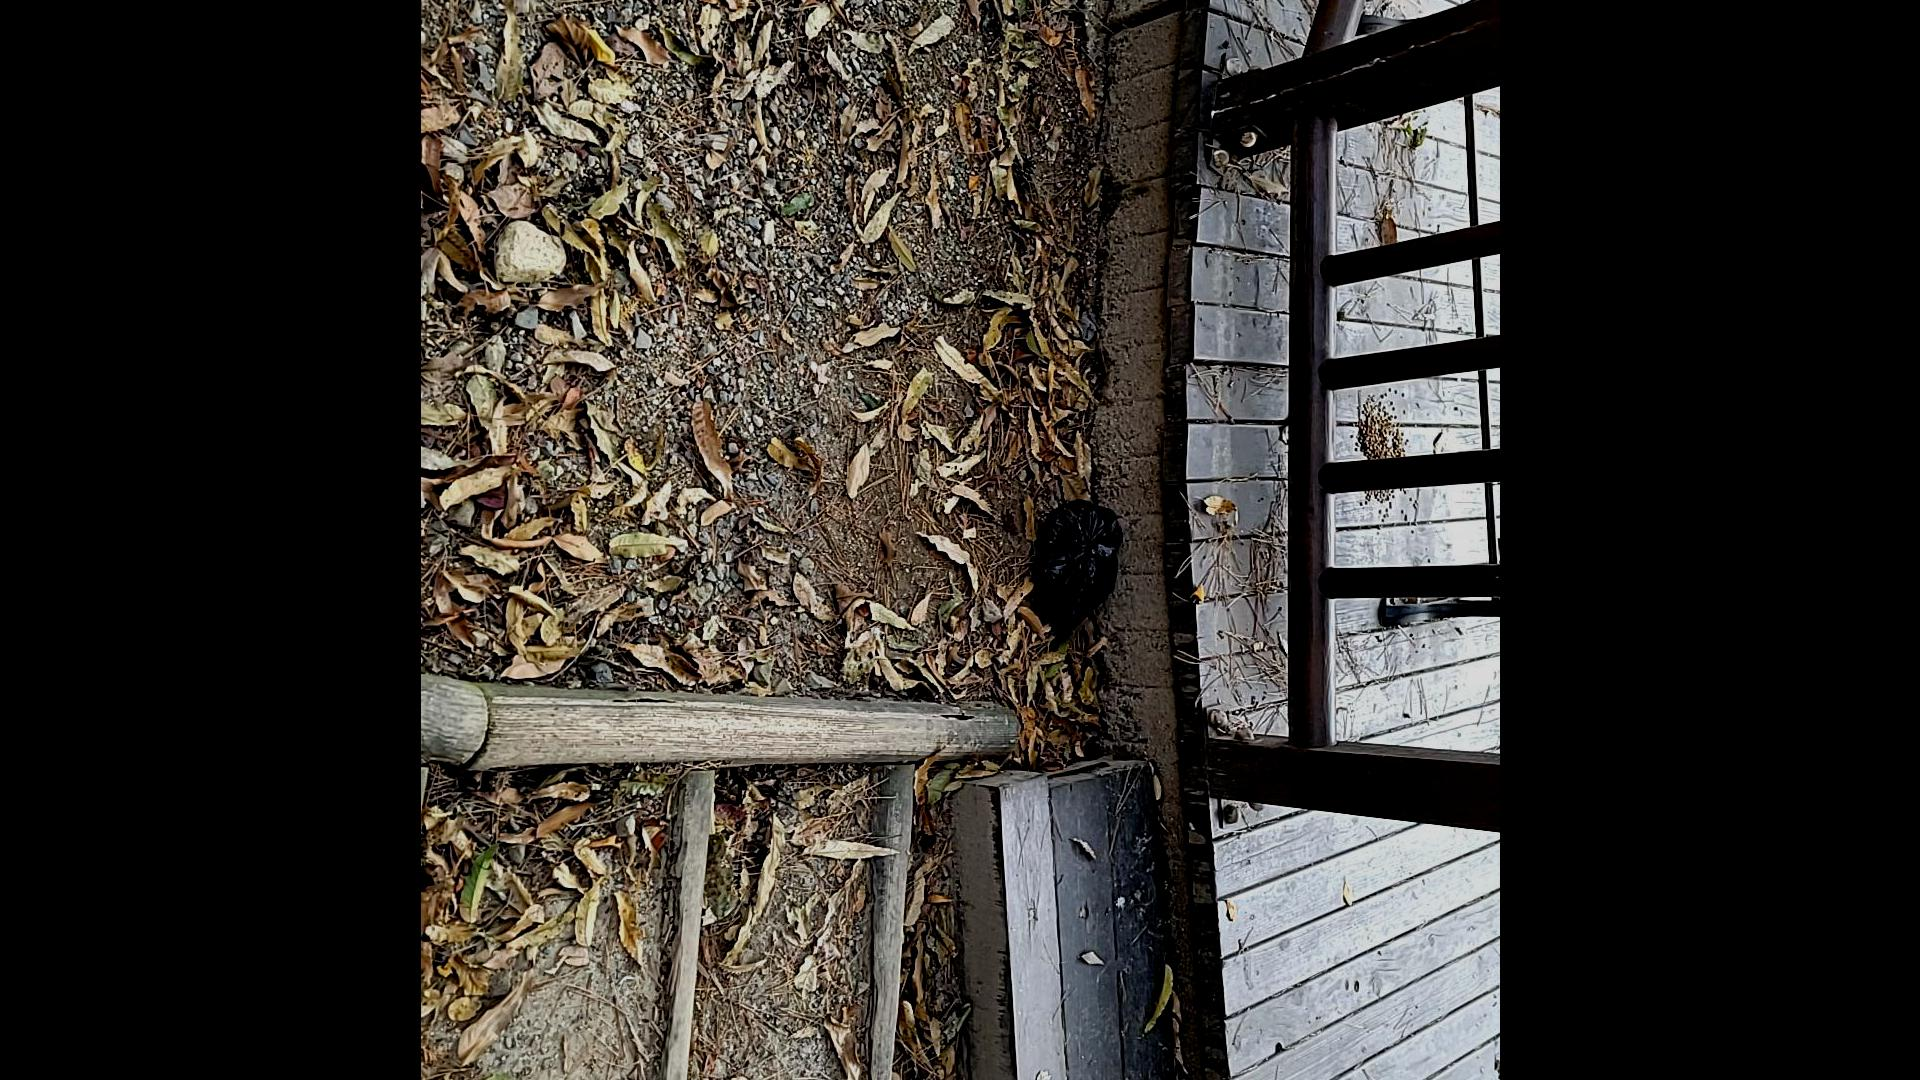black_bag: (1025, 495, 1124, 651)
